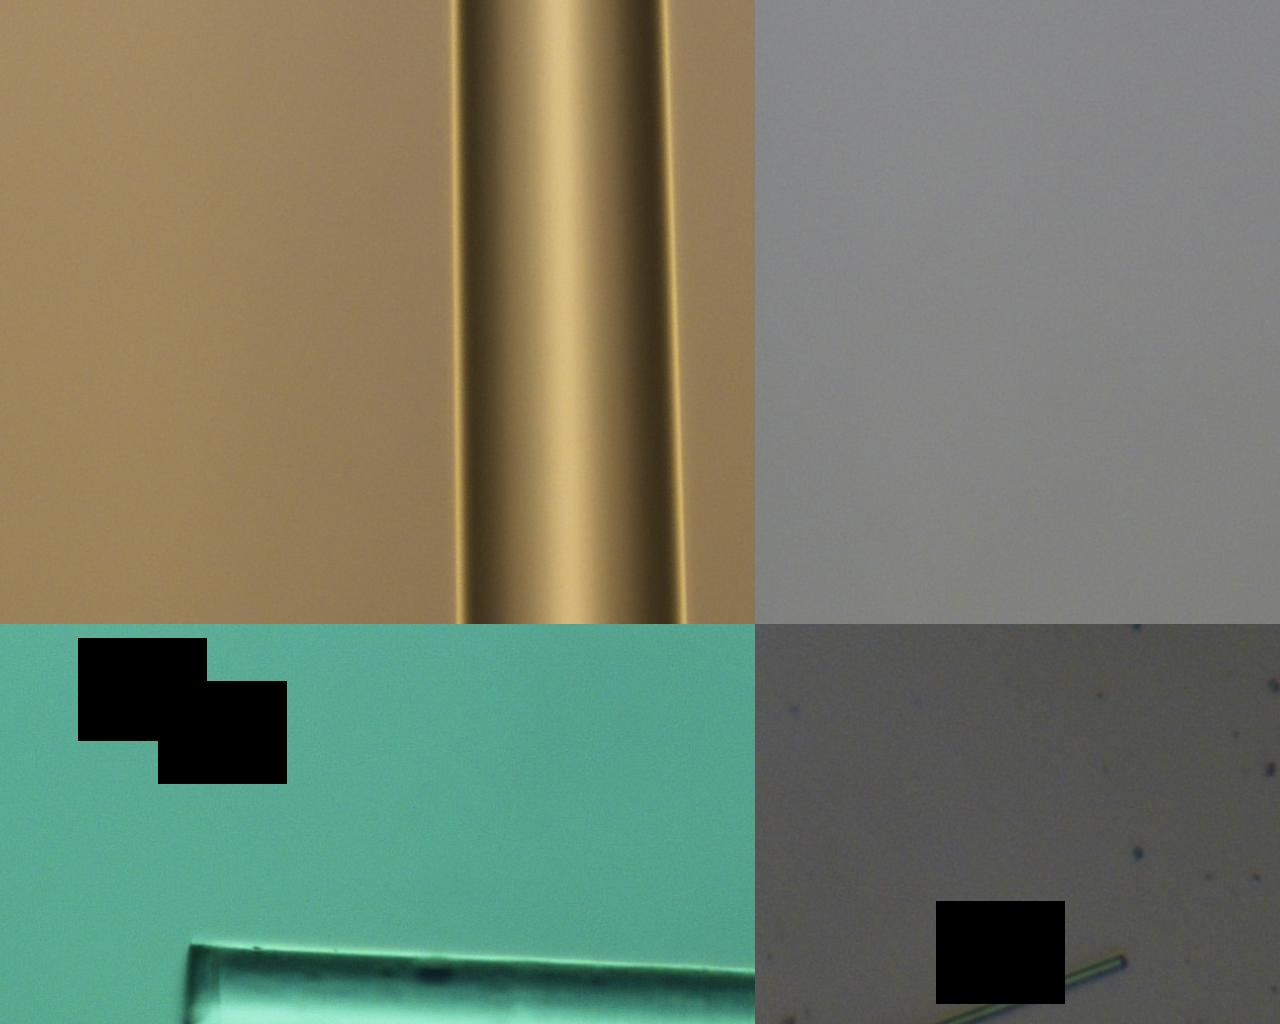fiber: (29, 681, 665, 1024), (665, 0, 1219, 344)
